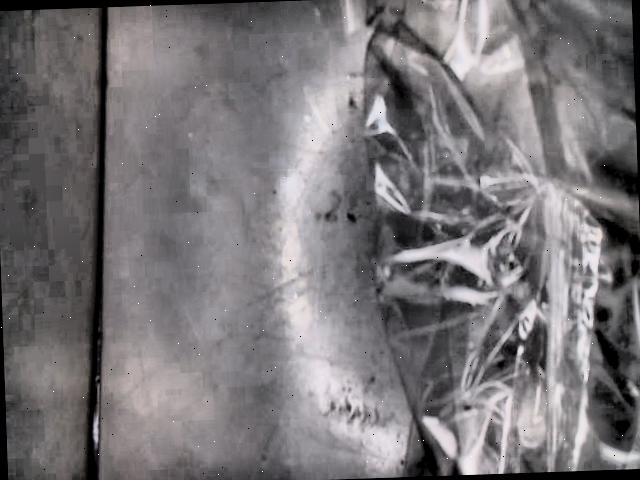Plastic: (363, 0, 640, 470)
